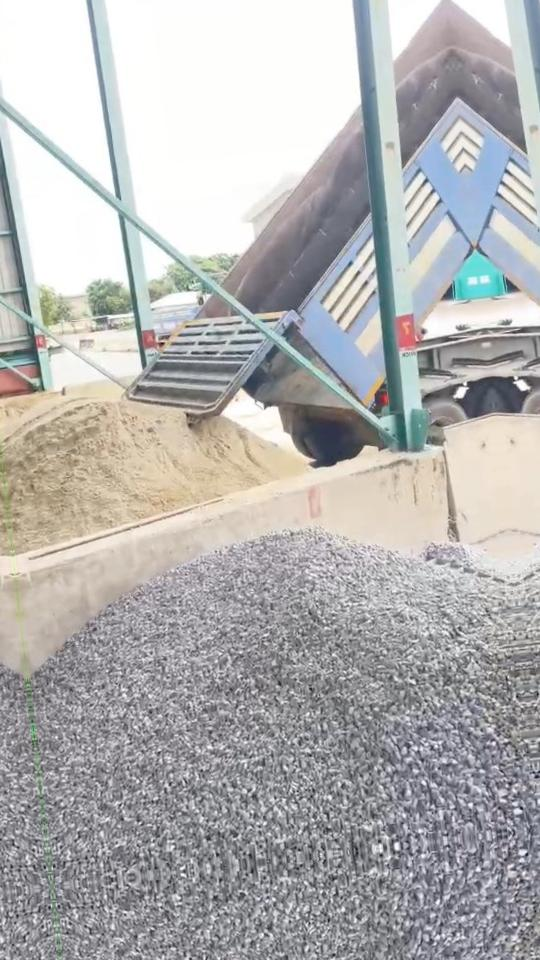gravel: (32, 529, 540, 884), (422, 541, 515, 582)
sand: (1, 395, 306, 552)
